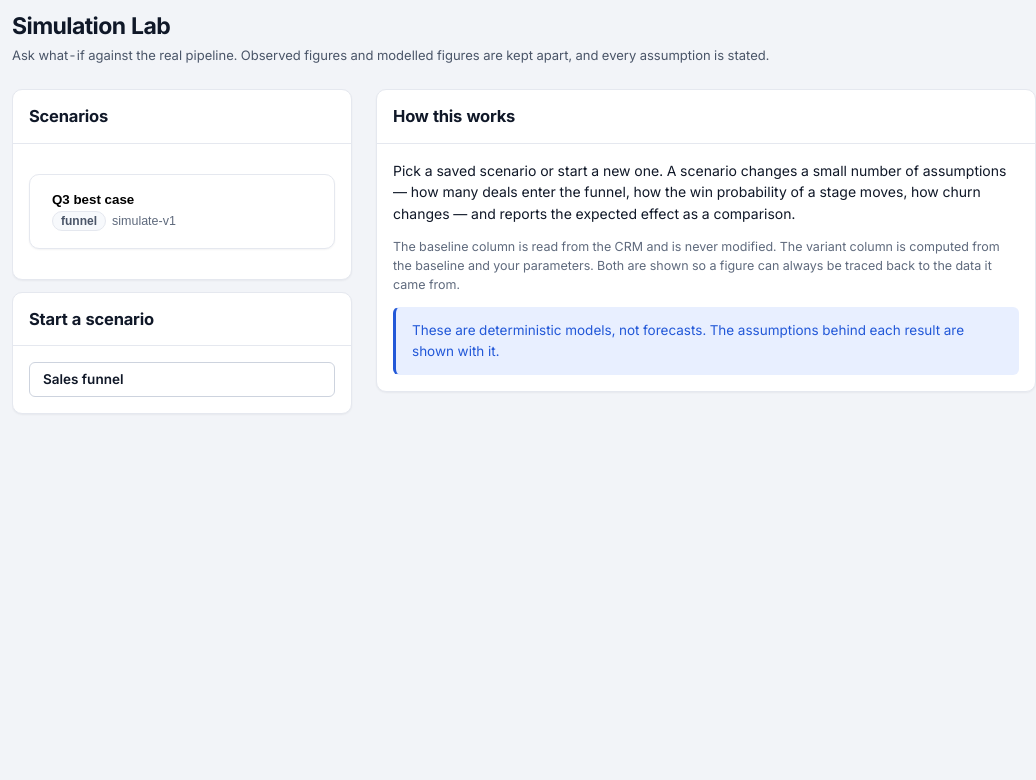
Test: SimulationPage › runs a saved scenario and shows the result
Click the button "Q3 best case funnel simulate-v1" at (93, 199), box [29, 174, 335, 248]
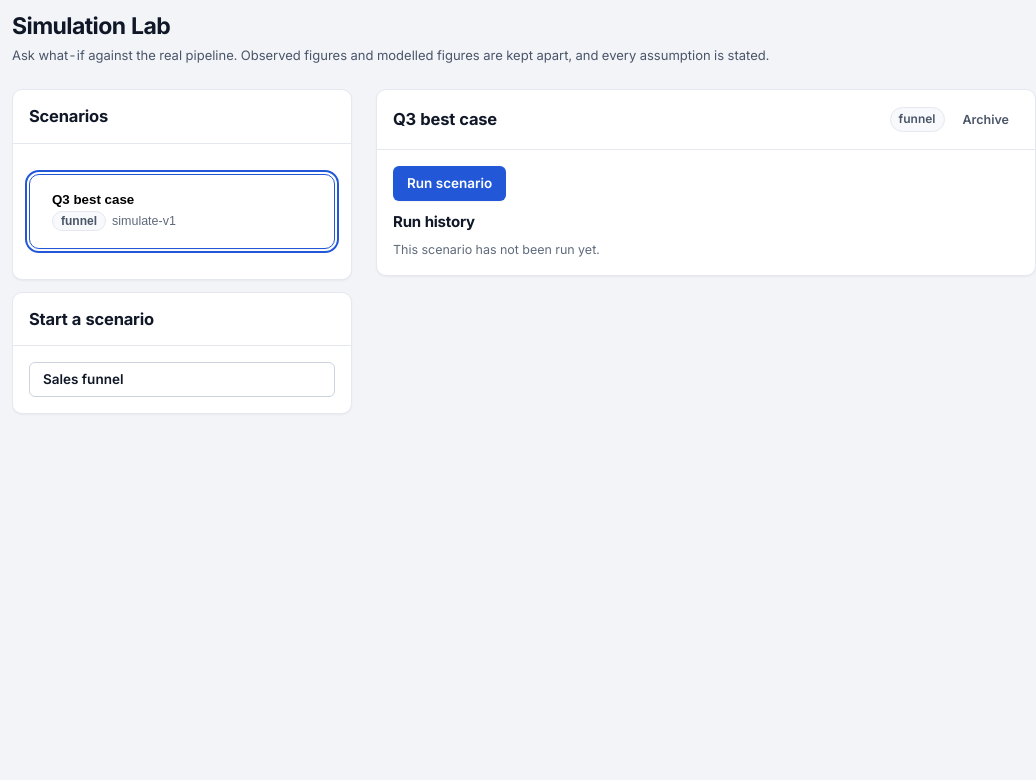
Click the button "Run scenario" at (450, 184), box [393, 166, 506, 201]
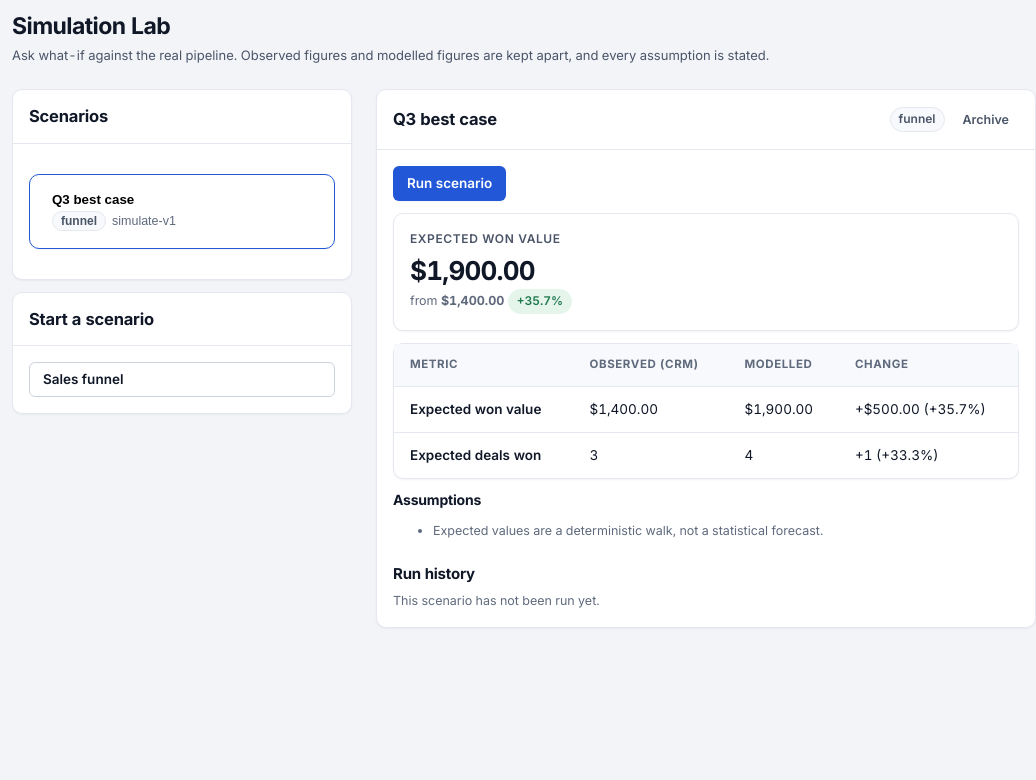
Check: the column heading "Observed (CRM)" is shown, box [574, 344, 728, 386]
